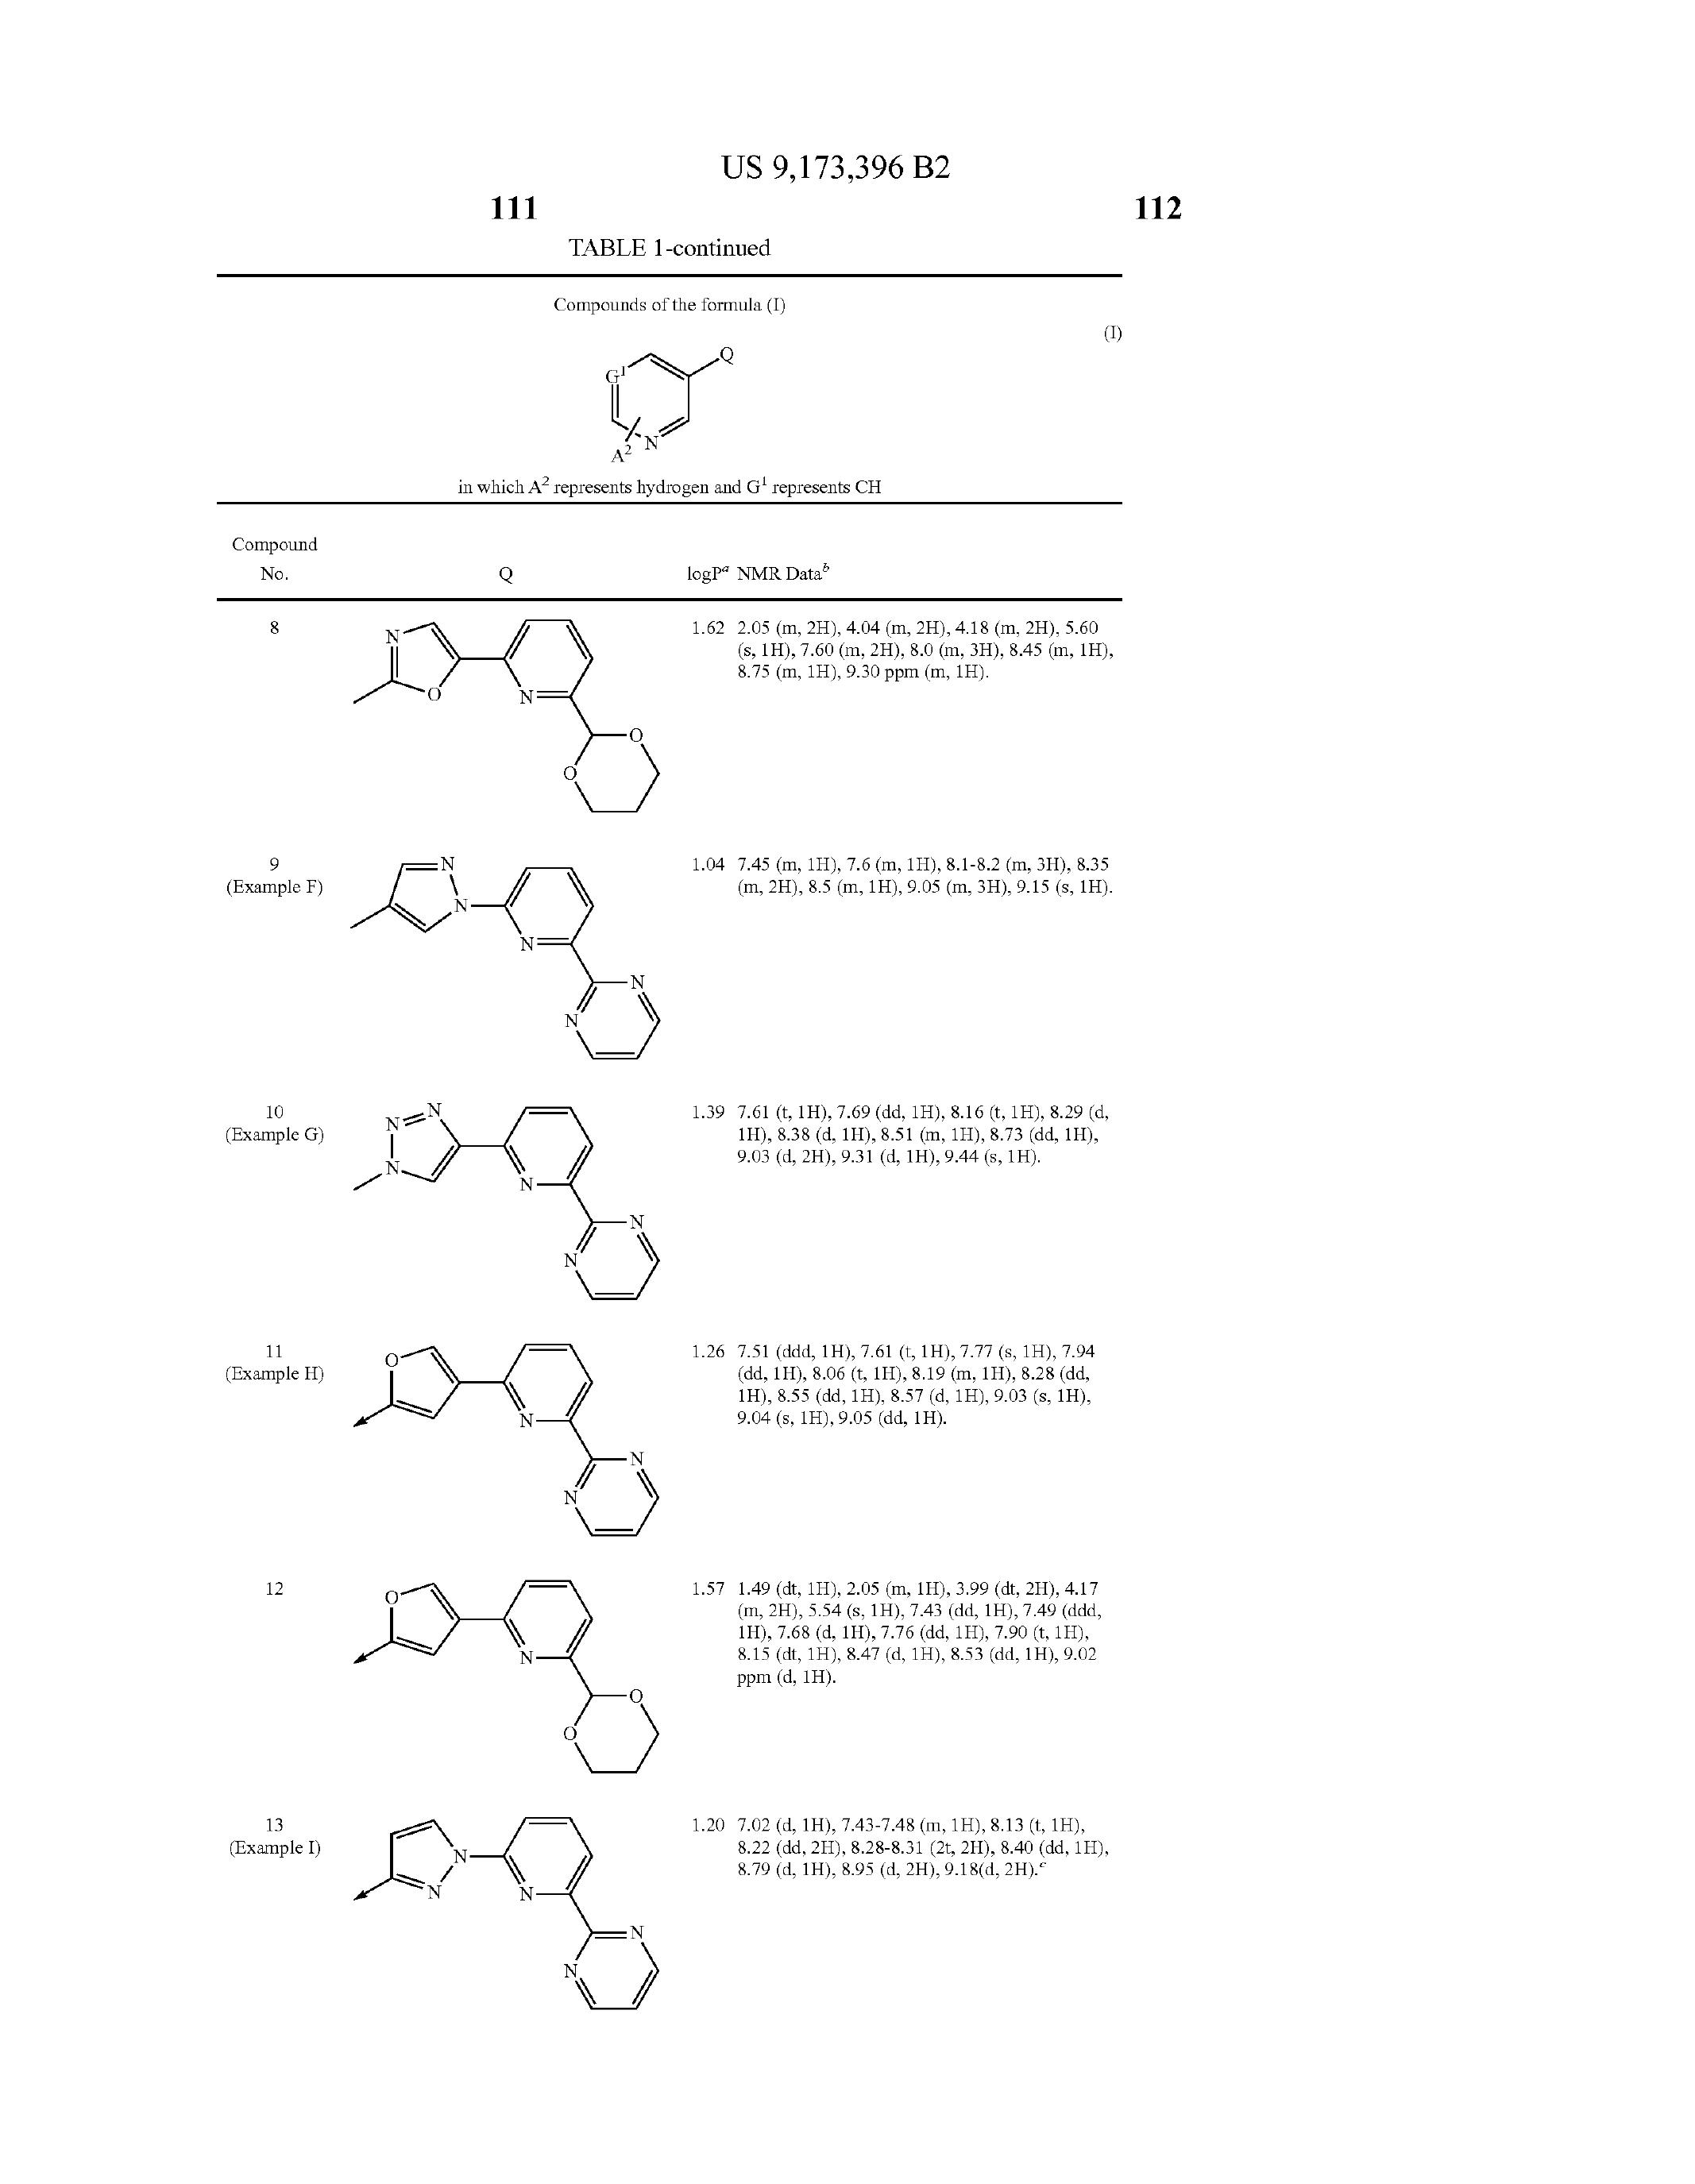relevant-structures: (360, 1782, 684, 2111), (317, 1549, 716, 1769), (342, 854, 686, 1083), (326, 620, 672, 833), (348, 1308, 681, 1528), (337, 1097, 691, 1299)
